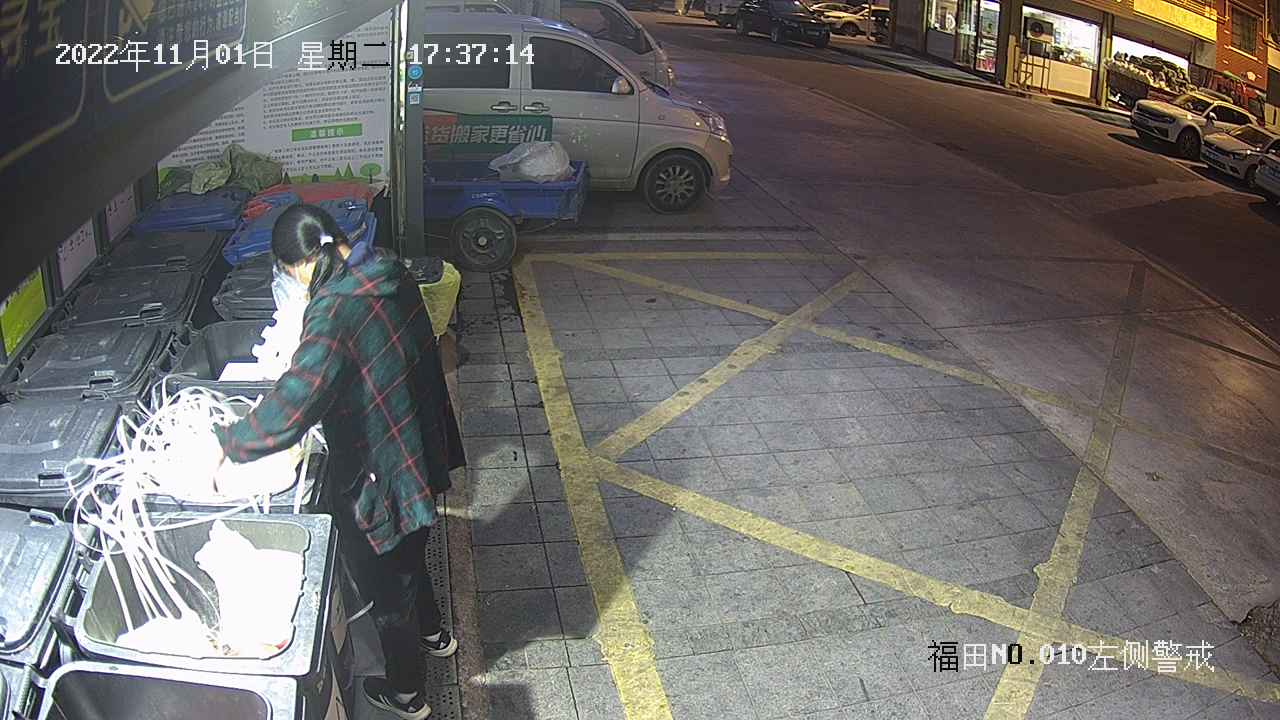person: (207, 203, 469, 719)
